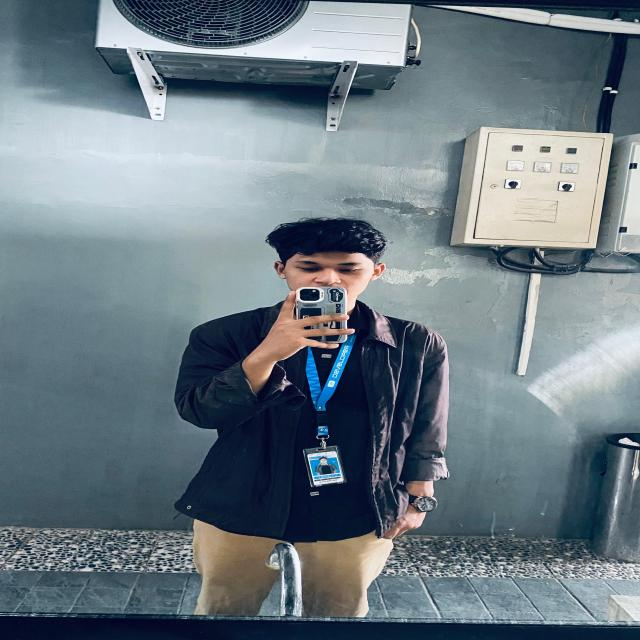nohelmet: (260, 220, 394, 302)
